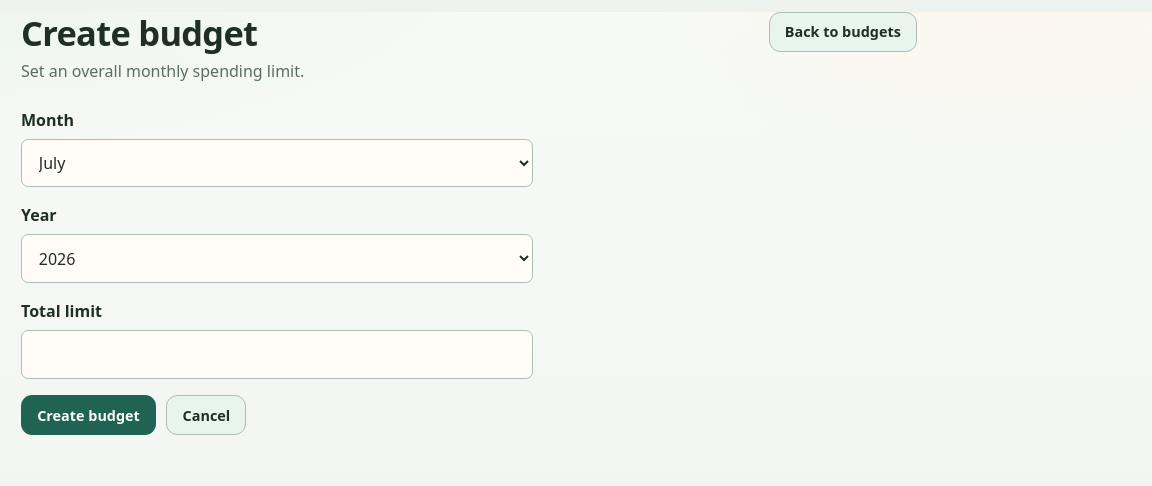
Test: BudgetFormPage › validates invalid total limit
Type "0" into the field labelled "Total limit".
click(277, 355); type("0")  # box [21,330,533,379]
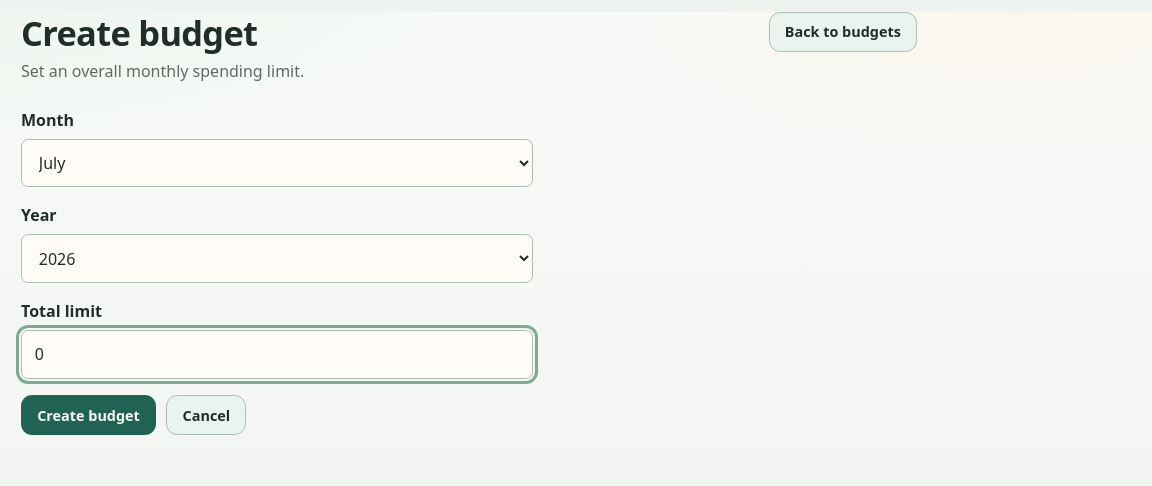
Click the button "Create budget".
click(88, 415)  # box [21,395,156,435]
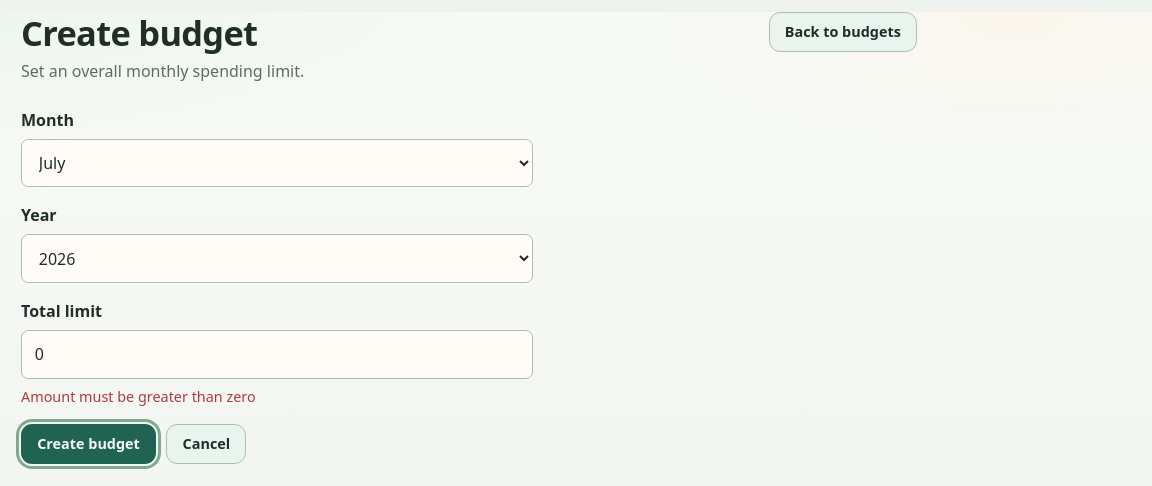
Expected: the text "Amount must be greater than zero" is shown, [21,386,256,406]
